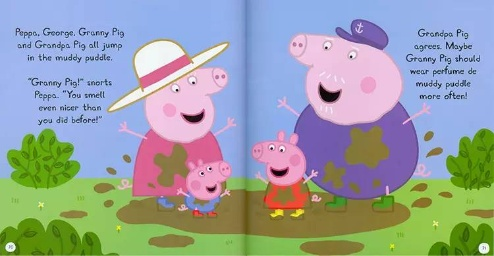Peppa: (251, 129, 324, 220)
